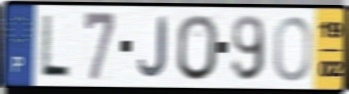7: (82, 9, 118, 84)
9: (230, 13, 267, 83)
J: (136, 15, 168, 80)
L: (37, 12, 73, 80)
O: (175, 12, 220, 83), (272, 14, 313, 84)
